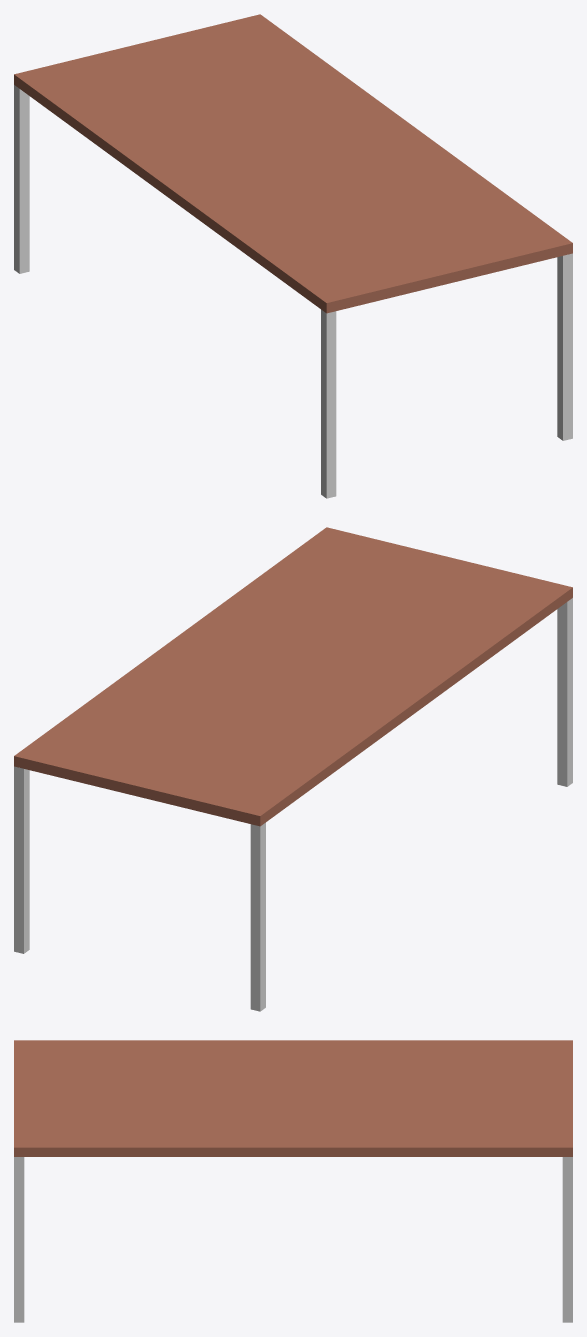
Rendered from static_interior.glb.
The picture shows the model from 3 angles, top to bottom: view 1: azimuth 30°, elevation 25°; view 2: azimuth 150°, elevation 25°; view 3: azimuth 270°, elevation 25°; orthographic projection. The views are drawn at different scales.
Parts seen in each view (by area): view 1: Cube, Cube.001, Cube.003, Cube.005; view 2: Cube, Cube.005, Cube.004, Cube.001; view 3: Cube, Cube.003, Cube.004.
Part boxes in pixels (x1=…): Cube: x1=14, y1=14, x2=572, y2=313; Cube.001: x1=321, y1=309, x2=336, y2=498; Cube.003: x1=557, y1=253, x2=572, y2=440; Cube.005: x1=14, y1=85, x2=29, y2=273; Cube: x1=14, y1=527, x2=572, y2=826; Cube.005: x1=250, y1=822, x2=265, y2=1011; Cube.004: x1=14, y1=766, x2=29, y2=953; Cube.001: x1=557, y1=598, x2=572, y2=786; Cube: x1=14, y1=1040, x2=572, y2=1156; Cube.003: x1=14, y1=1157, x2=24, y2=1322; Cube.004: x1=562, y1=1157, x2=572, y2=1322.
Bounding box in the file's own units: 1.27 × 0.9632 × 2.79.
